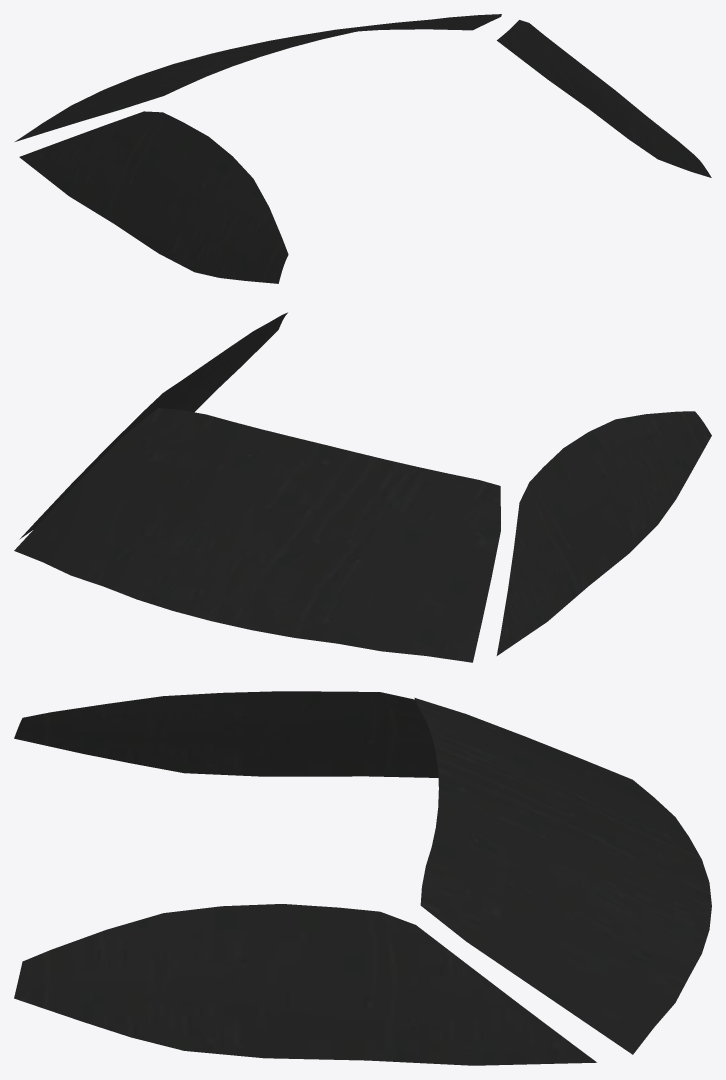
Rendered from car_glass.compressed.glb.
The picture shows the model from 3 angles, top to bottom: view 1: azimuth 30°, elevation 25°; view 2: azimuth 150°, elevation 25°; view 3: azimuth 270°, elevation 25°; orthographic projection. The views are drawn at different scales.
Parts seen in each view (by area): view 1: cb_car_export_cb_car_0.001; view 2: cb_car_export_cb_car_0.001; view 3: cb_car_export_cb_car_0.001.
Part boxes in pixels (<box>): cb_car_export_cb_car_0.001: <box>15,14,711,283</box>; cb_car_export_cb_car_0.001: <box>14,312,711,662</box>; cb_car_export_cb_car_0.001: <box>14,691,711,1065</box>.
Size of the model in its own units: 182 by 39.59 by 187.
1 material, 1 textured.
